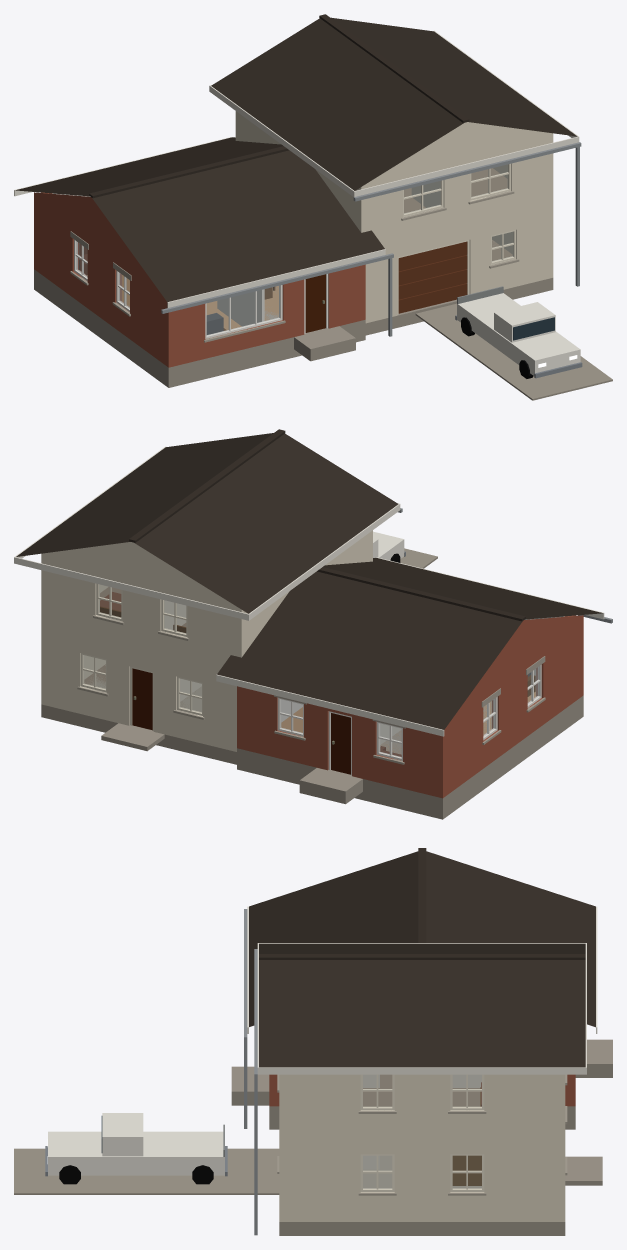
File: split.glb
3 views of the same model, one above another, from view 1: azimuth 30°, elevation 25°; view 2: azimuth 150°, elevation 25°; view 3: azimuth 270°, elevation 25° (orthographic). The views are drawn at different scales.
Visible parts, largest first — view 1: LOD0; view 2: LOD0; view 3: LOD0.
Boxes of the visible parts, <box> form: LOD0: <box>14,14,612,400</box>; LOD0: <box>14,429,612,819</box>; LOD0: <box>14,848,612,1235</box>.
Size of what is drawn, in the model's own units: 16.32 by 7.36 by 17.6.
